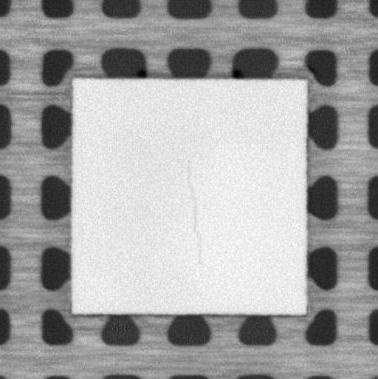DIE_CRACK: (180, 156, 202, 263)
